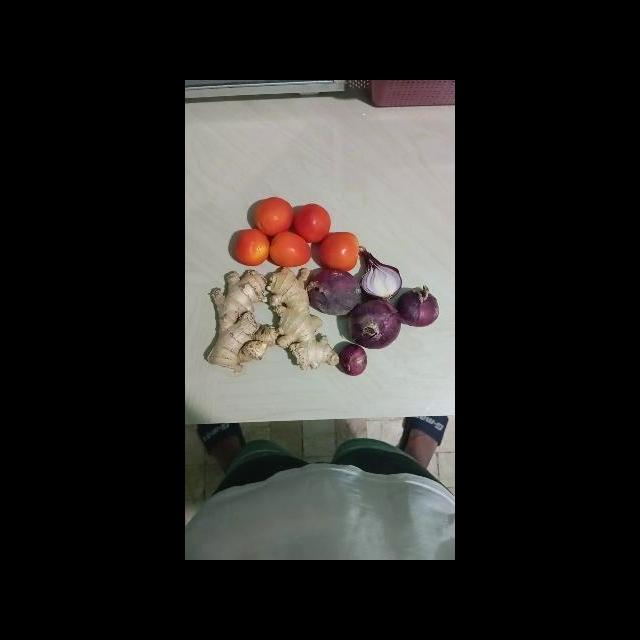ginger: (207, 268, 289, 374), (266, 267, 341, 372)
onion: (346, 296, 401, 351), (307, 265, 361, 319), (357, 242, 404, 304), (398, 283, 441, 329), (338, 341, 369, 380)
